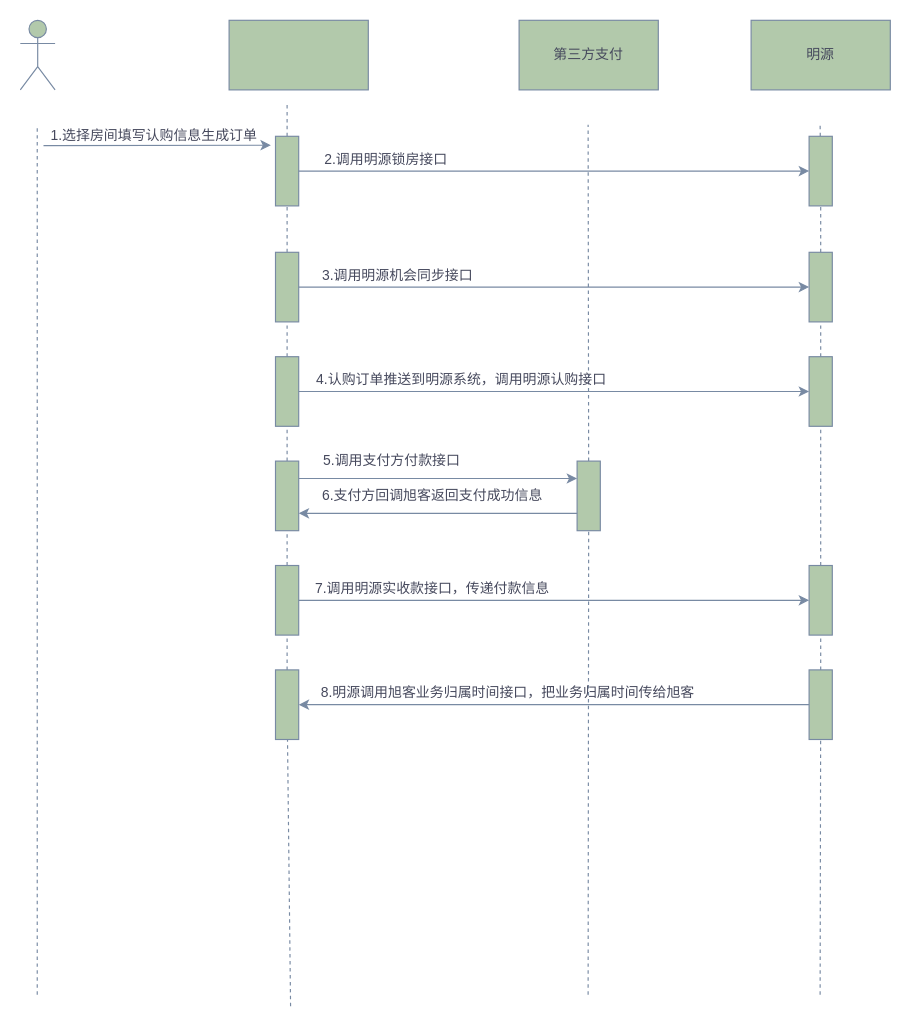
The diagram is 911 pixels wide and 1028 high, and some of its shapes have lost their labels. Here are the shapes that lost their labels. From the top down, the box of each, then its label:
(19, 19, 55, 90): Actor
(228, 19, 368, 90): 旭客家
